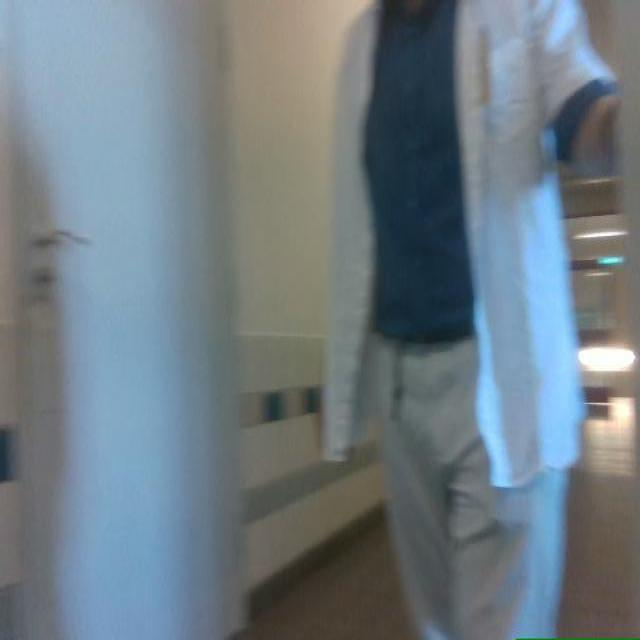humans: (325, 0, 620, 639)
